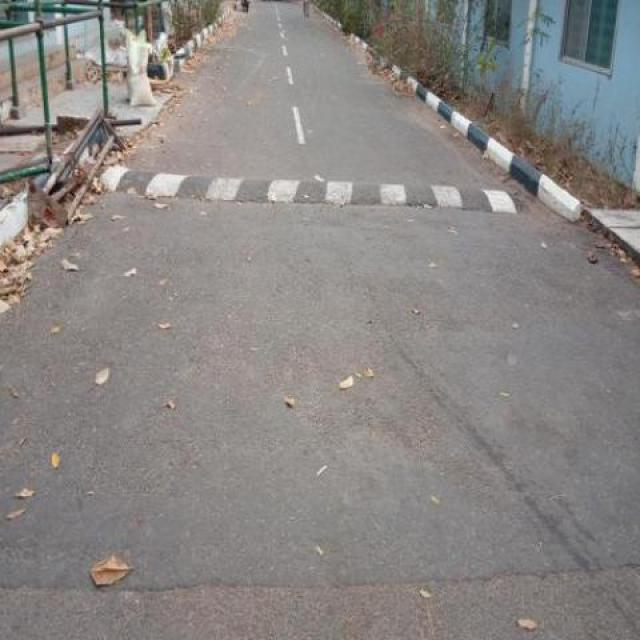Speed Bump: (92, 156, 526, 214)
